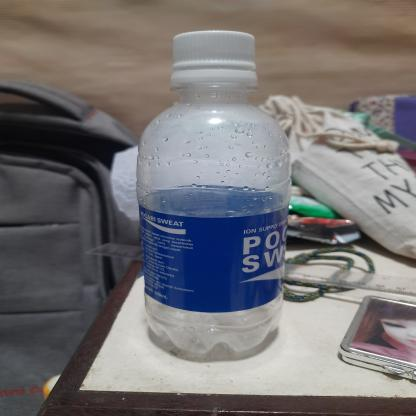bottle: (131, 24, 296, 365)
